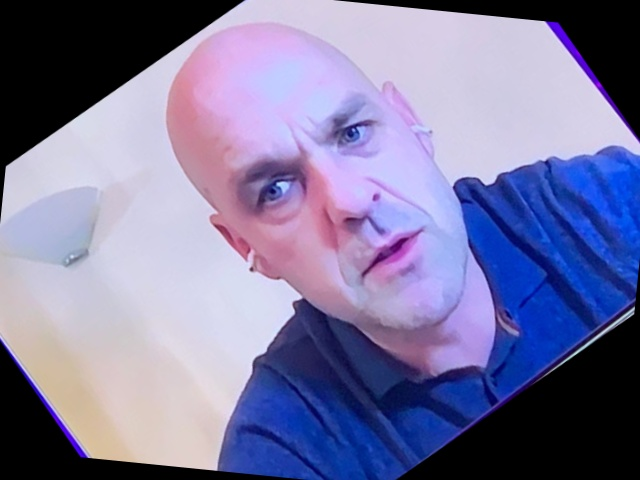earphone: (201, 199, 291, 295), (370, 74, 452, 162)
